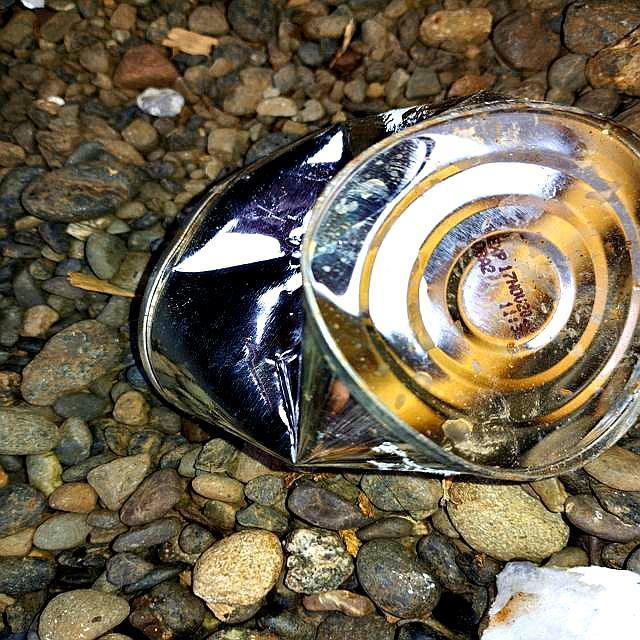Non-biodegradable: (129, 94, 639, 484)
